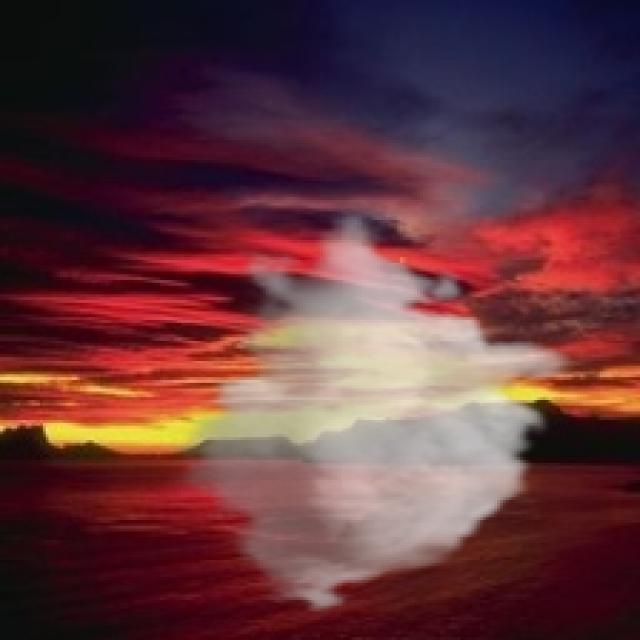Smoke: (168, 208, 578, 614)
